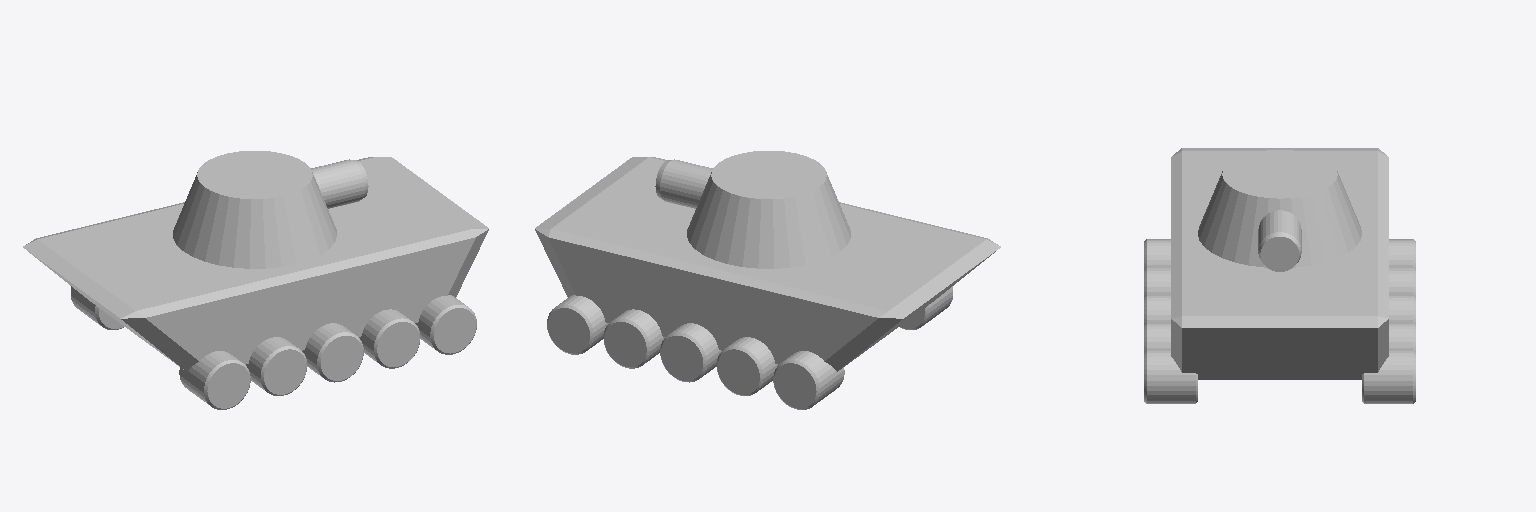
Rendered from tank.obj.
3 renders of one model, left to right at view 1: azimuth 30°, elevation 25°; view 2: azimuth 150°, elevation 25°; view 3: azimuth 270°, elevation 25°, orthographic.
Visible parts, largest first — view 1: Cube_Cube.006, Cone, Cylinder.008, Cylinder.007, Cylinder.009, Cylinder.005, Cylinder.006, Cylinder.010, Cylinder.003; view 2: Cube_Cube.006, Cone, Cylinder.003, Cylinder.002, Cylinder.004, Cylinder, Cylinder.001, Cylinder.010, Cylinder.008; view 3: Cube_Cube.006, Cone, Cylinder.002, Cylinder.007, Cylinder.010, Cylinder.001, Cylinder.003, Cylinder.006, Cylinder.008, Cylinder, Cylinder.005, Cylinder.004 (+1 smaller).
Boxes of the visible parts, box(x1,y1,x2,y2) form: Cube_Cube.006: box(23, 157, 488, 371); Cone: box(173, 151, 336, 268); Cylinder.008: box(179, 351, 250, 409); Cylinder.007: box(415, 295, 476, 354); Cylinder.009: box(302, 323, 363, 382); Cylinder.005: box(246, 337, 306, 395); Cylinder.006: box(359, 309, 419, 368); Cylinder.010: box(311, 159, 368, 208); Cylinder.003: box(71, 286, 123, 329); Cube_Cube.006: box(535, 157, 1000, 371); Cone: box(687, 151, 850, 268); Cylinder.003: box(773, 351, 844, 409); Cylinder.002: box(547, 295, 608, 354); Cylinder.004: box(660, 323, 721, 382); Cylinder: box(717, 337, 777, 395); Cylinder.001: box(604, 309, 664, 368); Cylinder.010: box(655, 159, 712, 208); Cylinder.008: box(900, 286, 952, 329); Cube_Cube.006: box(1171, 148, 1388, 379); Cone: box(1198, 150, 1361, 267); Cylinder.002: box(1362, 350, 1415, 403); Cylinder.007: box(1144, 350, 1197, 403); Cylinder.010: box(1258, 210, 1301, 271); Cylinder.001: box(1389, 322, 1415, 351); Cylinder.003: box(1389, 239, 1415, 268); Cylinder.006: box(1144, 322, 1170, 351); Cylinder.008: box(1144, 239, 1170, 268); Cylinder: box(1389, 267, 1415, 295); Cylinder.005: box(1144, 267, 1170, 295); Cylinder.004: box(1389, 295, 1415, 323).
Size of the model in its own units: 3.92 by 1.65 by 2.5.